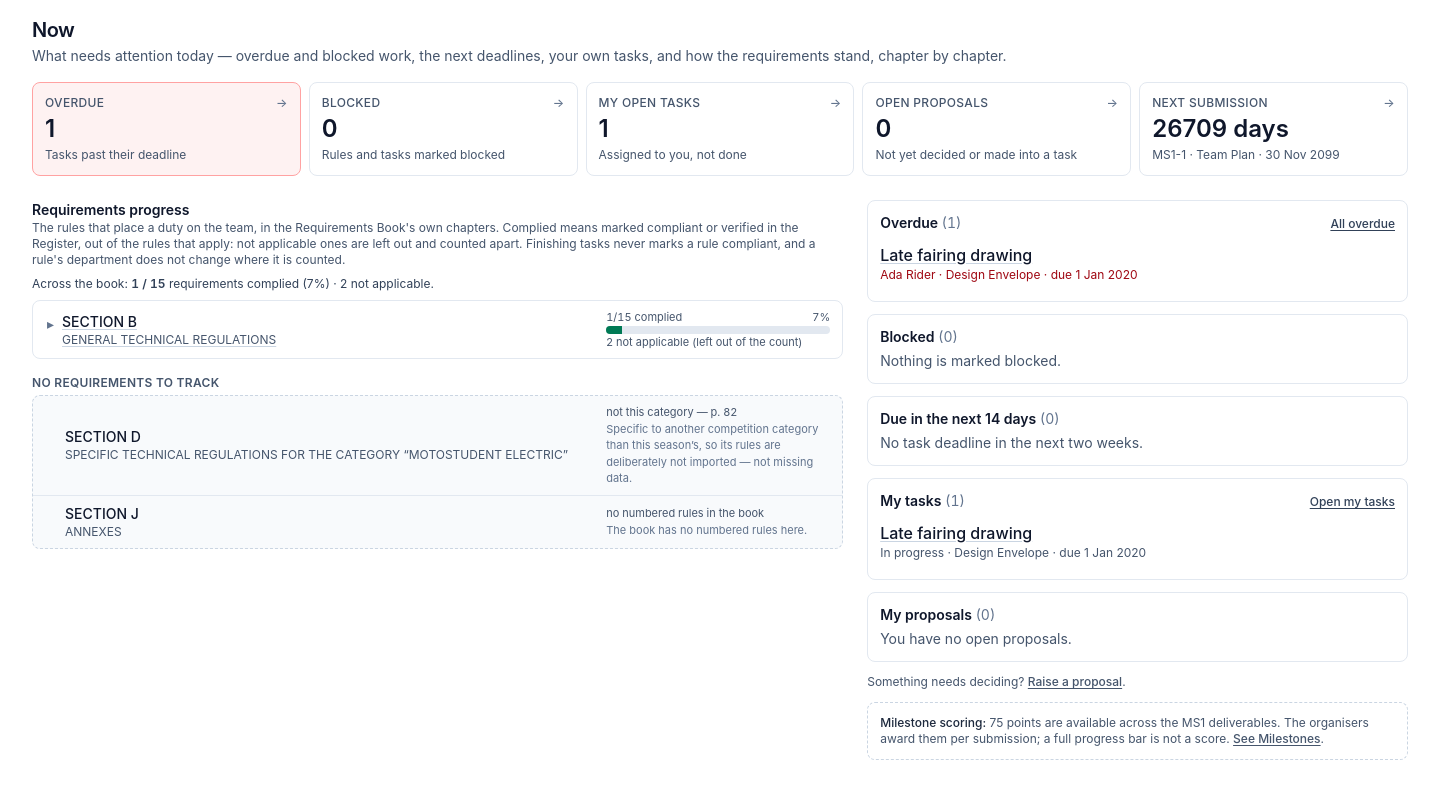
Test case: Now dashboard › expands a chapter into its articles
The width and height of the screenshot is (1440, 810).
Click the button named "Show the parts of SECTION B" at (50, 324), box [45, 314, 56, 334]
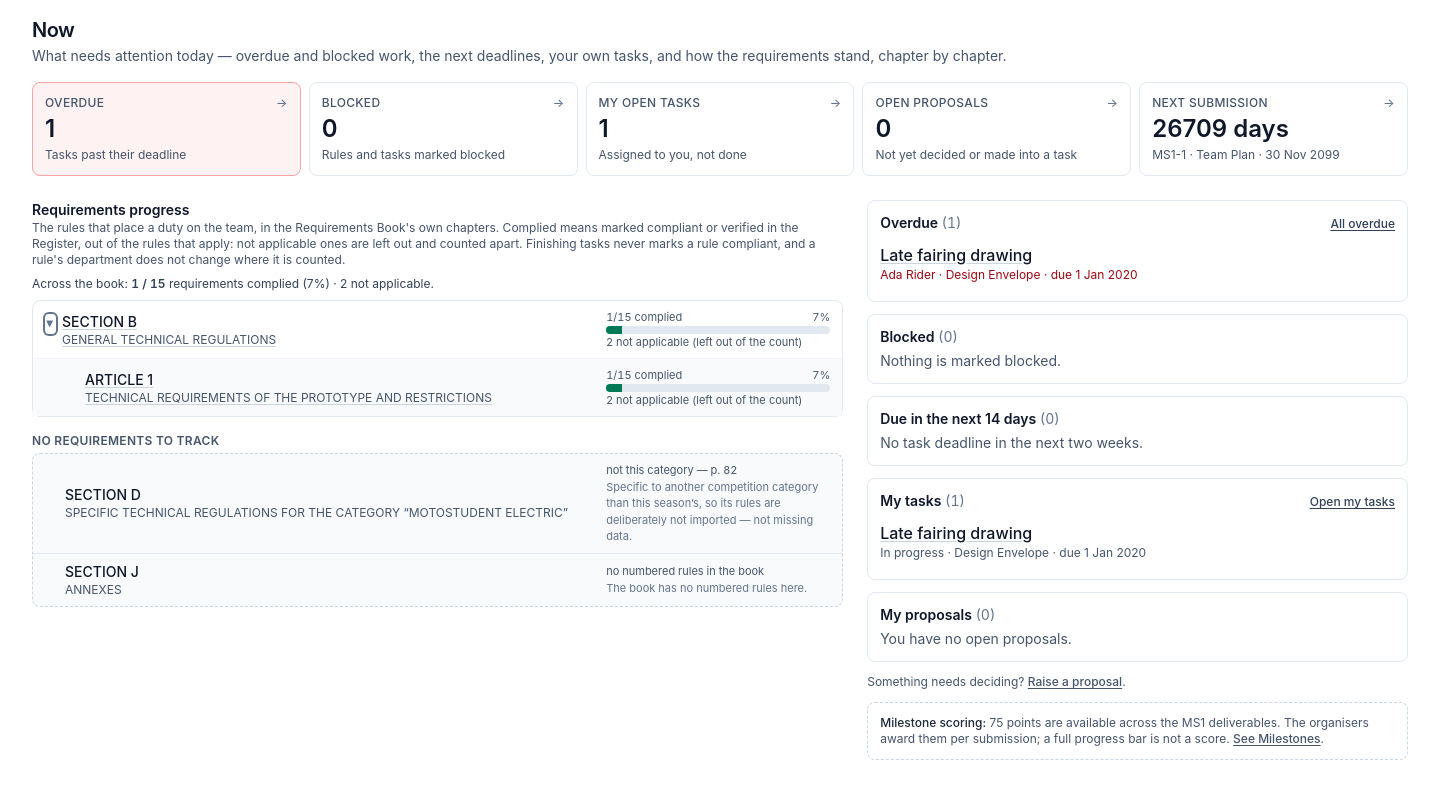
Result: the element with test id "book-sub-B.1" is shown at [53, 359, 842, 416]
